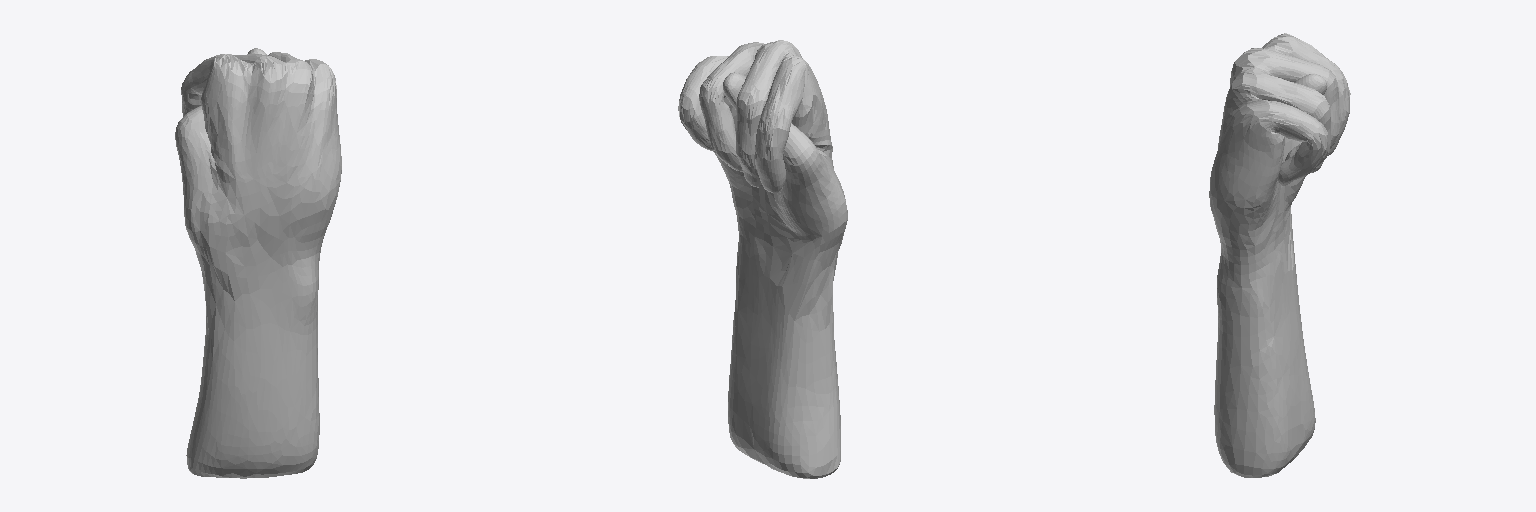
File: mainn.obj
3 renders of one model, left to right at view 1: azimuth 30°, elevation 25°; view 2: azimuth 150°, elevation 25°; view 3: azimuth 270°, elevation 25°, orthographic.
Visible parts, largest first — view 1: ZBrush_defualt_group; view 2: ZBrush_defualt_group; view 3: ZBrush_defualt_group.
Part boxes in pixels (x1,y1,x2,y2): ZBrush_defualt_group: (175, 48, 341, 478); ZBrush_defualt_group: (678, 40, 847, 478); ZBrush_defualt_group: (1209, 33, 1350, 477).
Bounding box in the file's own units: 2.68 × 7.29 × 2.27.